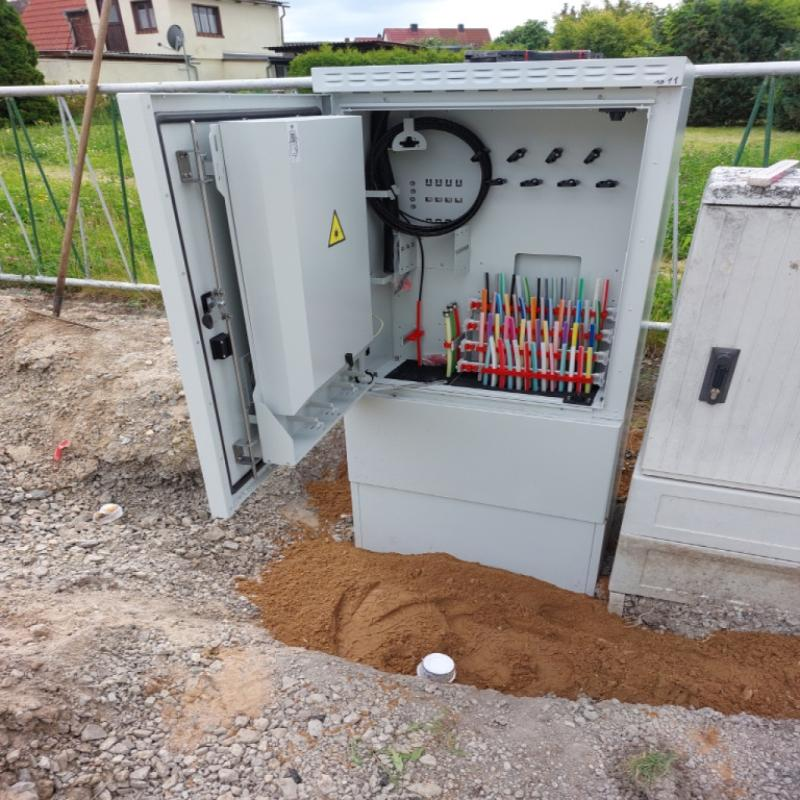NT-Gehause: (115, 68, 686, 604), (611, 167, 800, 632)
